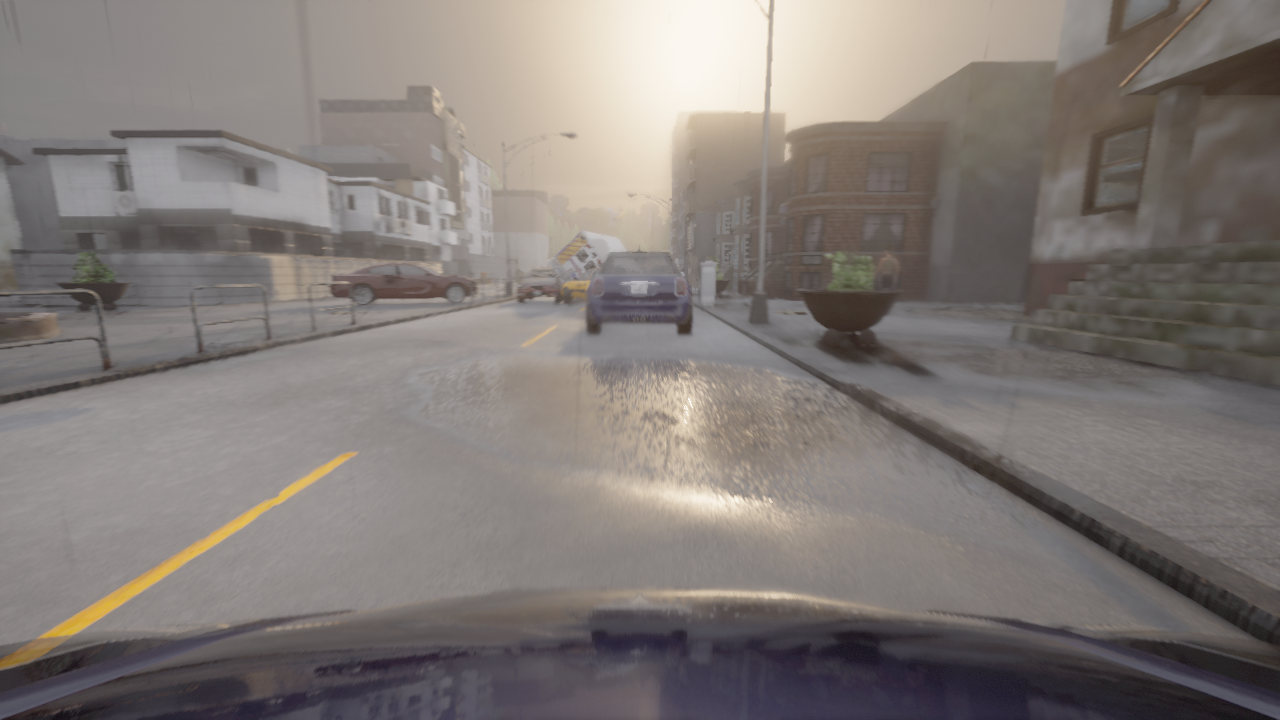cyclist: (0, 588, 1279, 719), (586, 245, 692, 333), (329, 262, 479, 305), (547, 230, 626, 301), (516, 268, 563, 303), (560, 266, 601, 304)
pedestrian: (872, 246, 898, 314)
